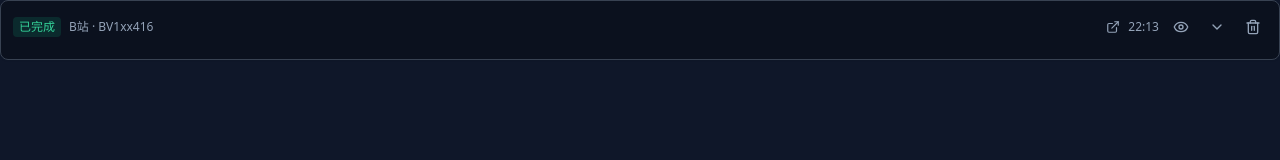
TaskRow 预览：getVideo 失败 → 预览加载失败
Click the button named "展开预览".
click(1217, 27)  # box [1203, 13, 1231, 41]
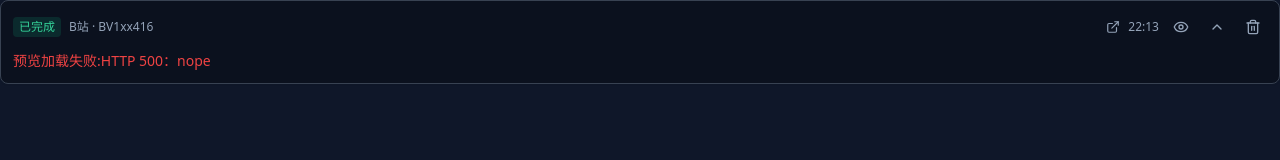
Check: the text "预览加载失败:HTTP 500：nope" is shown, box [13, 51, 211, 70]
